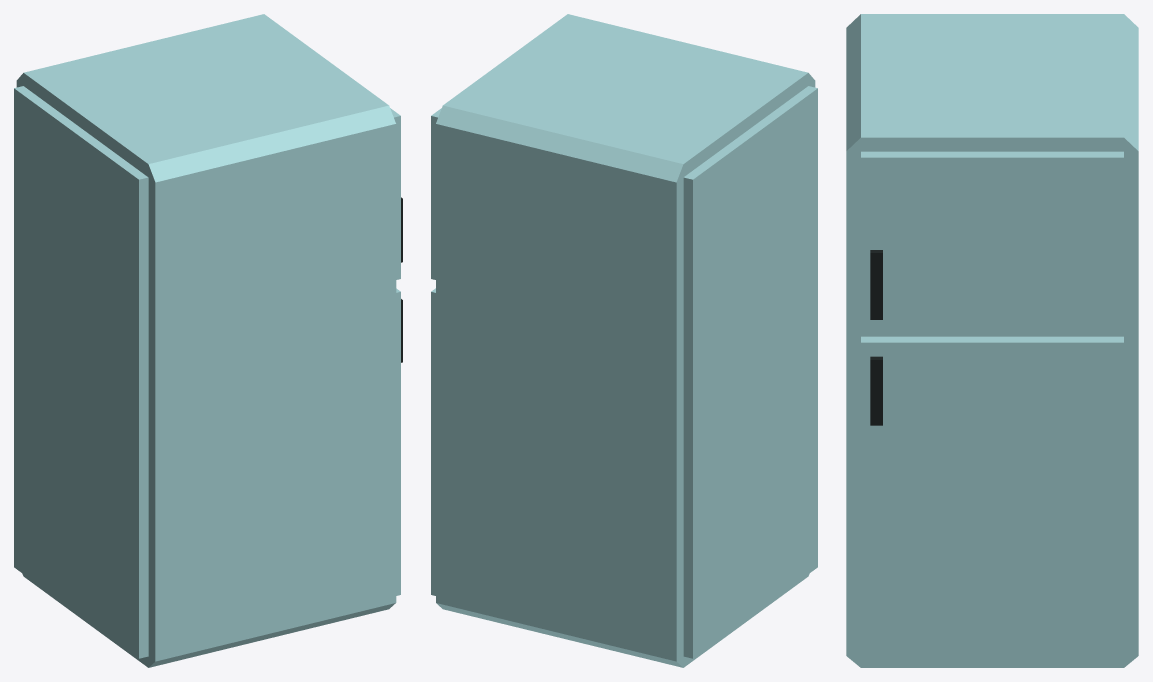
Rendered from figrofrico.gltf.
The picture shows the model from 3 angles, left to right: view 1: azimuth 30°, elevation 25°; view 2: azimuth 150°, elevation 25°; view 3: azimuth 270°, elevation 25°; orthographic projection. The views are drawn at different scales.
Visible parts, largest first — view 1: Cube; view 2: Cube; view 3: Cube.
Part boxes in pixels (x1=…): Cube: x1=14, y1=14, x2=402, y2=667; Cube: x1=431, y1=14, x2=817, y2=667; Cube: x1=846, y1=14, x2=1138, y2=667.
Bounding box in the file's own units: 2.23 × 4 × 2.
1 material, 1 textured.
